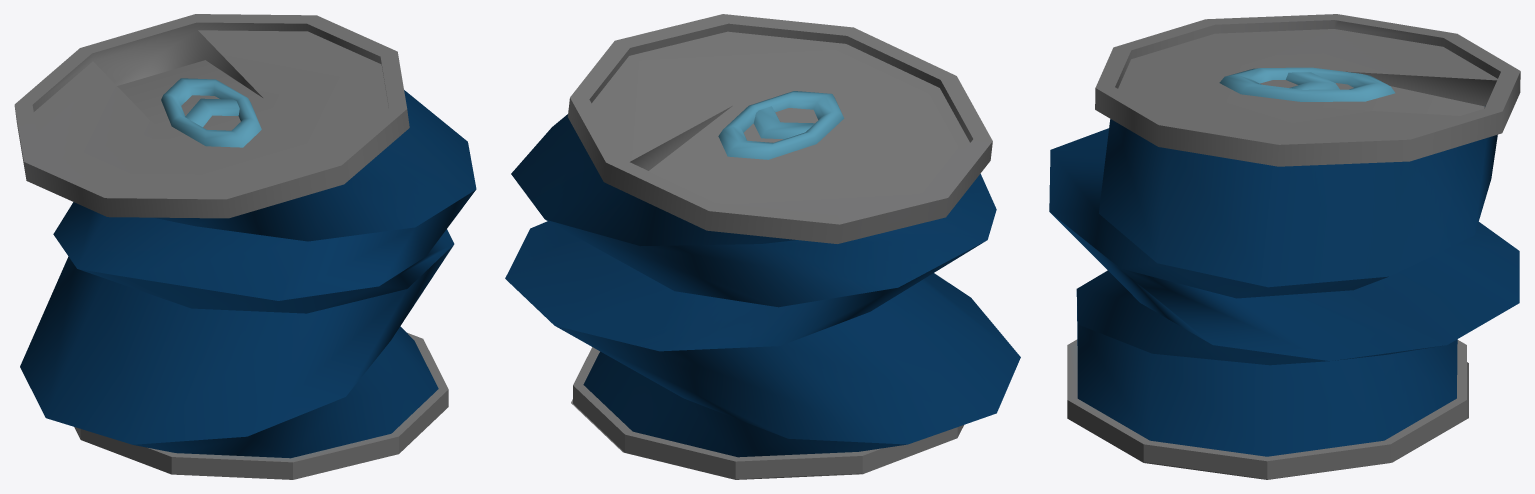
File: SodaCanCrushed.fbx
3 views of the same model, side by side, from view 1: azimuth 30°, elevation 25°; view 2: azimuth 150°, elevation 25°; view 3: azimuth 270°, elevation 25° (orthographic). The views are drawn at different scales.
Parts seen in each view (by area): view 1: SodaCanCrushed; view 2: SodaCanCrushed; view 3: SodaCanCrushed.
Boxes of the visible parts, box(x1,y1,x2,y2) form: SodaCanCrushed: box(14, 14, 476, 479); SodaCanCrushed: box(505, 14, 1020, 479); SodaCanCrushed: box(1049, 14, 1520, 479).
Size of the model in its own units: 11.67 by 8.04 by 10.58.
